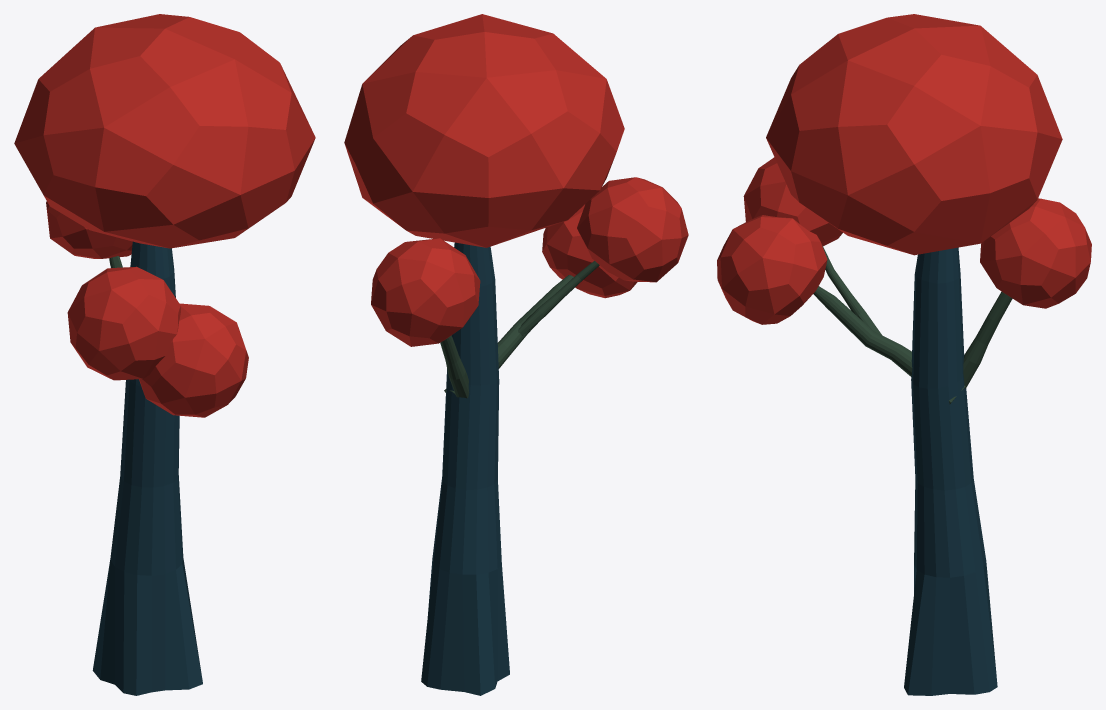
File: Tree1.obj
The picture shows the model from 3 angles, left to right: view 1: azimuth 30°, elevation 25°; view 2: azimuth 150°, elevation 25°; view 3: azimuth 270°, elevation 25°; orthographic projection. The views are drawn at different scales.
Parts seen in each view (by area): view 1: pasted__pPlatonic2 group12, pasted__pCylinder1 group7, pasted__pasted__pPlatonic1 polySurface7, pasted__pasted__pPlatonic1 polySurface8, pasted__pPlatonic1 group13; view 2: pasted__pPlatonic2 group12, pasted__pCylinder1 group7, pasted__pPlatonic1 group13, pasted__pasted__pPlatonic1 polySurface7, pasted__pasted__pPlatonic1 polySurface8, polySurface10 pasted__pasted__pPlatonic1, pasted__pasted__pPlatonic1 polySurface9, pasted__pasted__pasted__pCylinder1 pasted__pasted__group pasted_; view 3: pasted__pPlatonic2 group12, pasted__pCylinder1 group7, pasted__pasted__pPlatonic1 polySurface8, pasted__pPlatonic1 group13, pasted__pasted__pPlatonic1 polySurface7, polySurface10 pasted__pasted__pPlatonic1, pasted__pasted__pasted__pCylinder1 pasted__pasted__group pasted_, pasted__pasted__pPlatonic1 polySurface9.
Part boxes in pixels (x1,y1,x2,y2): pasted__pPlatonic2 group12: (14,14,315,248); pasted__pCylinder1 group7: (92,241,202,695); pasted__pasted__pPlatonic1 polySurface7: (67,266,180,380); pasted__pasted__pPlatonic1 polySurface8: (139,303,248,417); pasted__pPlatonic1 group13: (46,201,132,258); pasted__pPlatonic2 group12: (344,14,624,247); pasted__pCylinder1 group7: (421,242,509,695); pasted__pPlatonic1 group13: (371,238,480,346); pasted__pasted__pPlatonic1 polySurface7: (577,177,688,282); pasted__pasted__pPlatonic1 polySurface8: (542,204,637,298); polySurface10 pasted__pasted__pPlatonic1: (444,275,573,393); pasted__pasted__pPlatonic1 polySurface9: (518,261,599,335); pasted__pasted__pasted__pCylinder1 pasted__pasted__group pasted_: (440,335,469,398); pasted__pPlatonic2 group12: (766,14,1062,255); pasted__pCylinder1 group7: (904,247,997,695); pasted__pasted__pPlatonic1 polySurface8: (717,215,827,324); pasted__pPlatonic1 group13: (980,198,1091,308); pasted__pasted__pPlatonic1 polySurface7: (743,157,842,246); polySurface10 pasted__pasted__pPlatonic1: (813,286,965,404); pasted__pasted__pasted__pCylinder1 pasted__pasted__group pasted_: (963,291,1012,388); pasted__pasted__pPlatonic1 polySurface9: (822,245,881,334).
Size of the model in its own units: 7.28 by 16.89 by 8.83.
